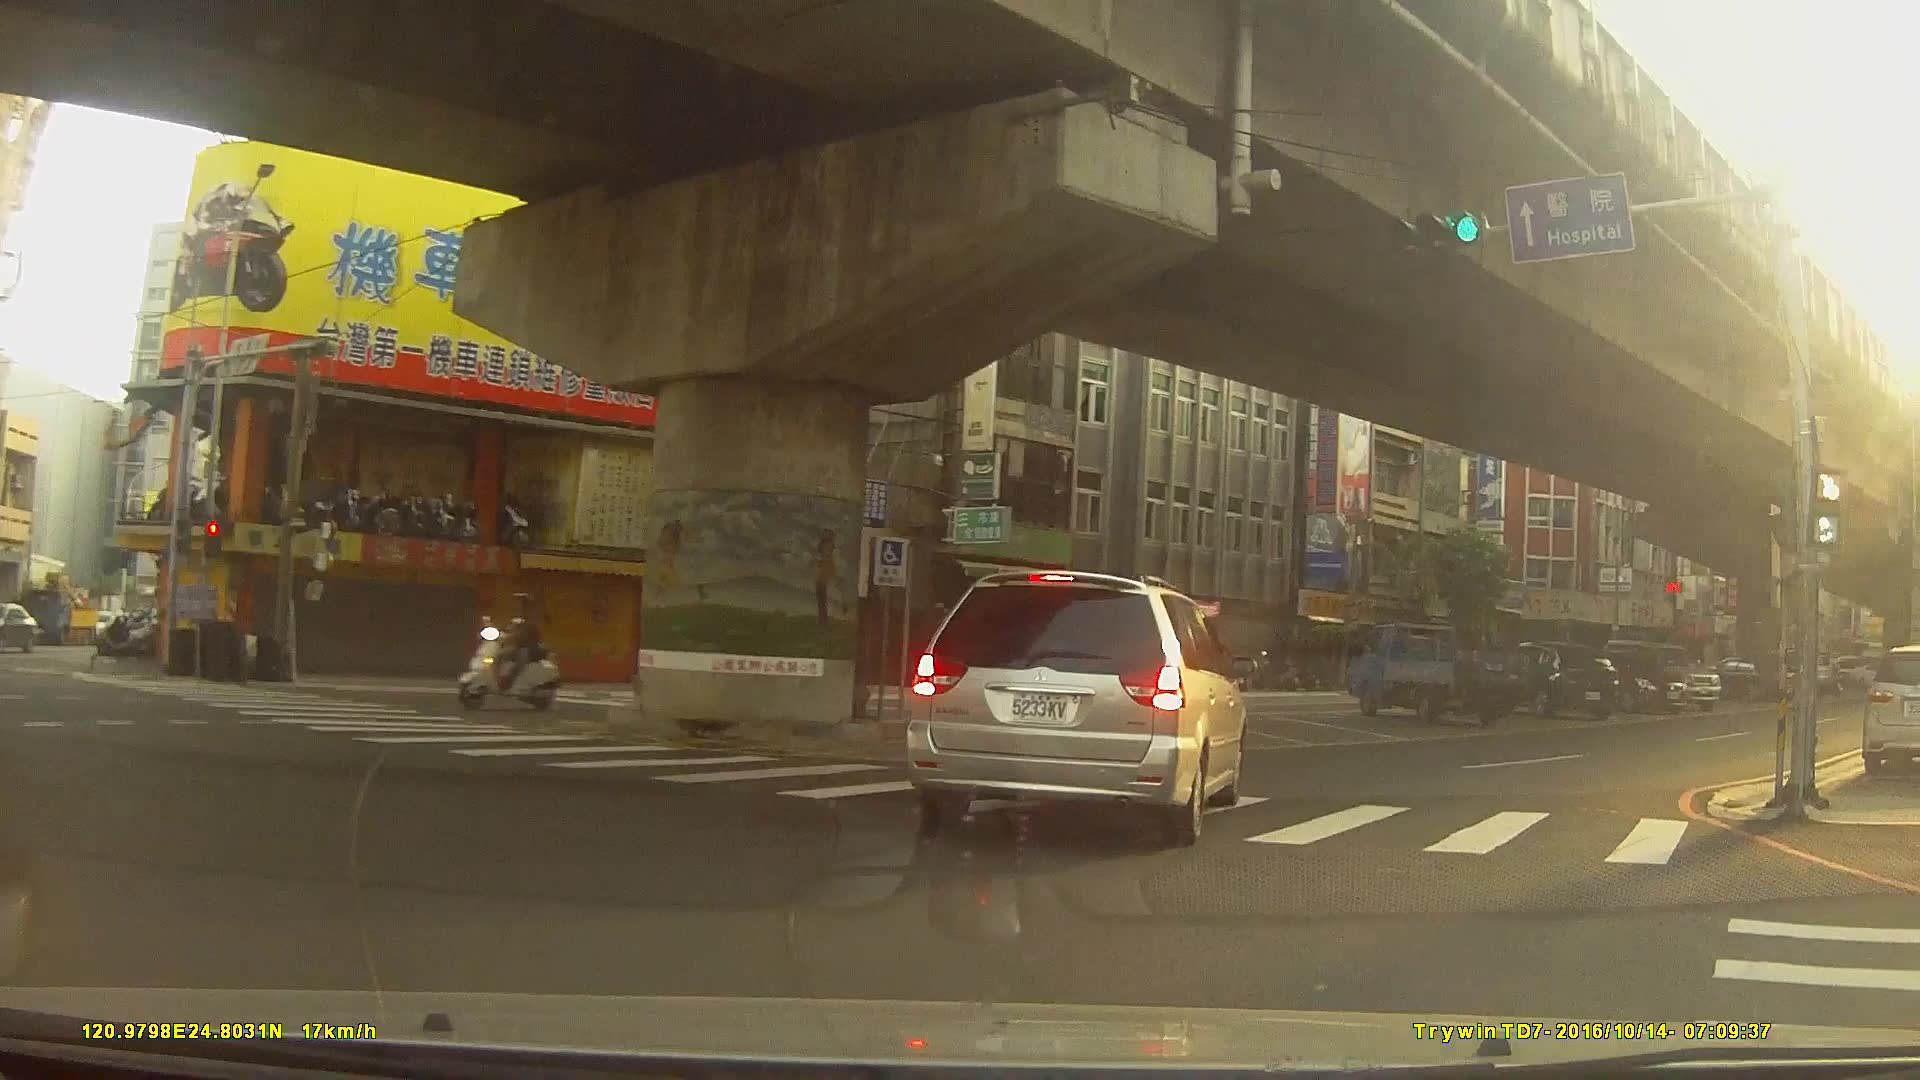rider: (462, 588, 566, 707)
vehicle: (901, 563, 1247, 843), (1340, 620, 1530, 725), (1486, 638, 1619, 719), (1860, 641, 1920, 773), (1573, 647, 1690, 713), (1697, 654, 1773, 695), (0, 597, 38, 653)
